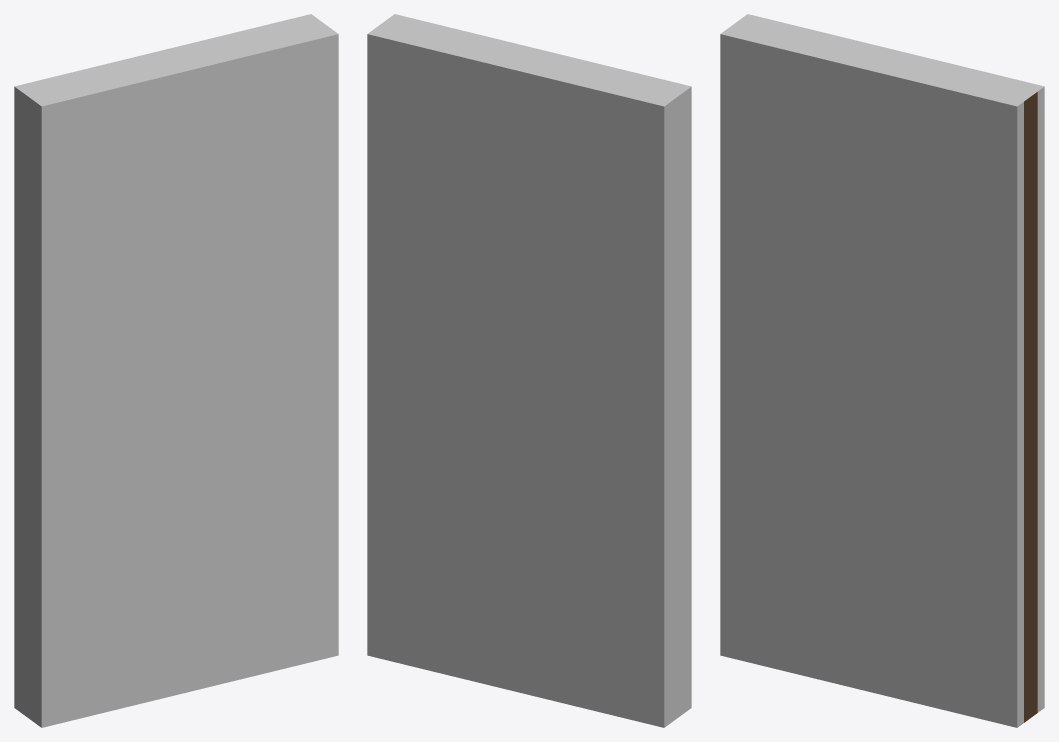
The model's file is eca_comsign_board_open_special.dae.
The picture shows the model from 3 angles, left to right: view 1: azimuth 30°, elevation 25°; view 2: azimuth 150°, elevation 25°; view 3: azimuth 330°, elevation 25°; orthographic projection.
Parts seen in each view (by area): view 1: Colmesh-1; view 2: Colmesh-1; view 3: Colmesh-1, eca_comsign_board_open_special_a30.
Part boxes in pixels (<box>): Colmesh-1: <box>14,14,338,727</box>; Colmesh-1: <box>367,14,691,727</box>; Colmesh-1: <box>720,14,1044,727</box>; eca_comsign_board_open_special_a30: <box>1024,92,1037,722</box>.
Bounding box in the file's own units: 0.25 × 0.04 × 0.5.
